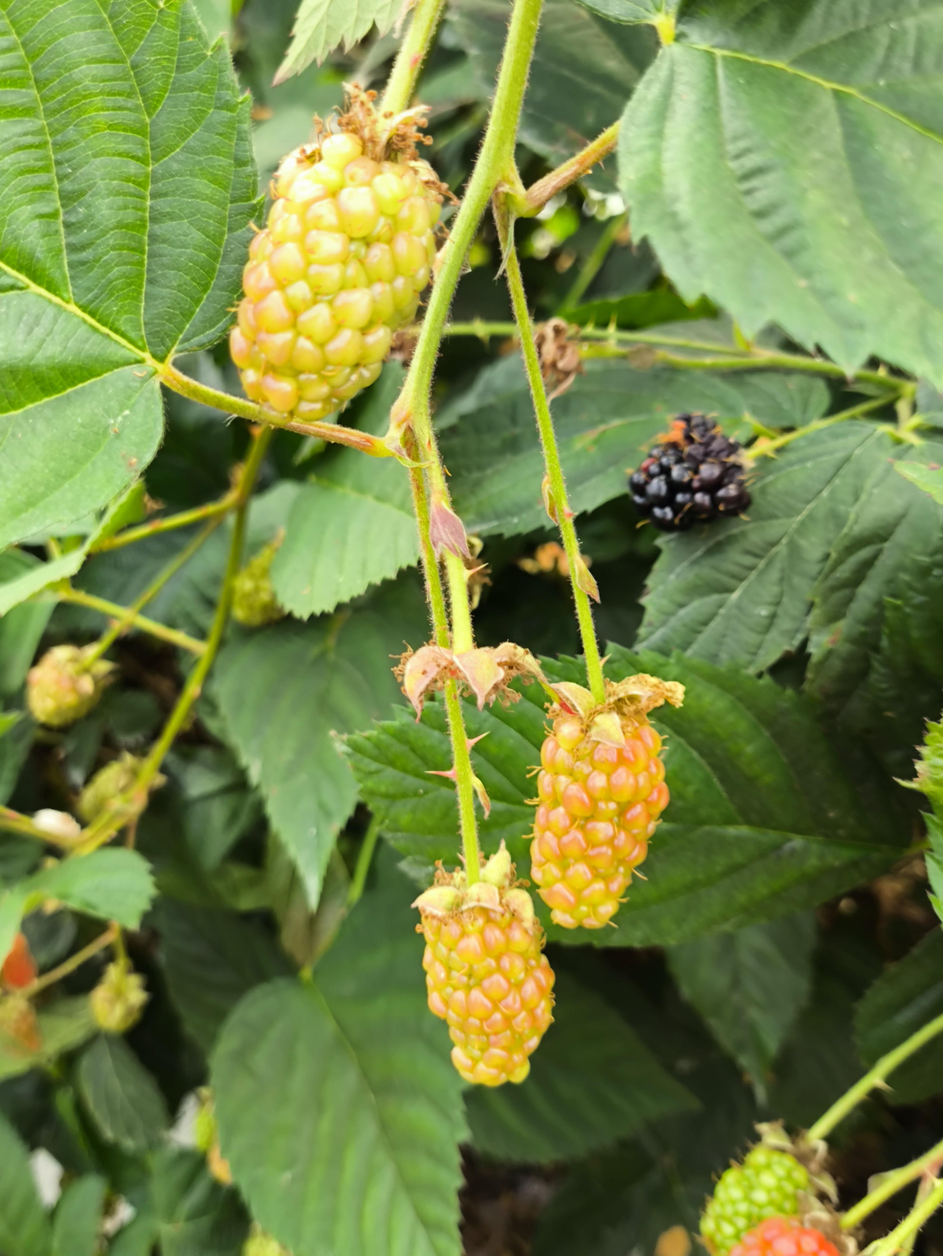maduro: (629, 414, 751, 531)
verde: (230, 96, 441, 422), (530, 710, 669, 929), (419, 908, 553, 1086), (700, 1144, 810, 1256), (27, 644, 116, 727)
